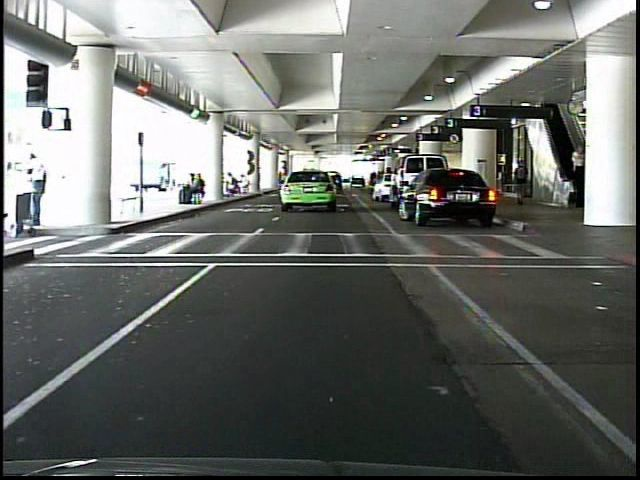person: (22, 151, 54, 229), (566, 142, 588, 201), (510, 157, 531, 211)
